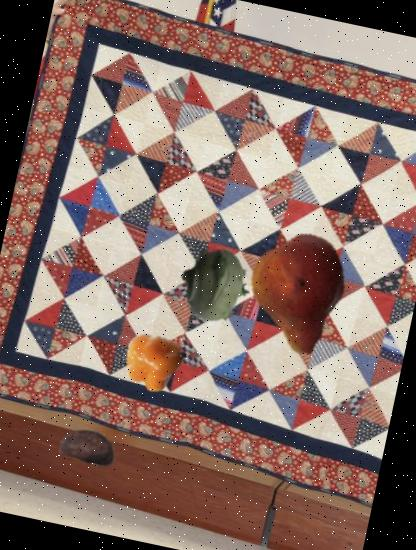Chestnut: (54, 412, 123, 482)
Kohlrabi: (171, 241, 260, 330)
Pear: (231, 223, 374, 368)
Pepper: (118, 324, 193, 399)
